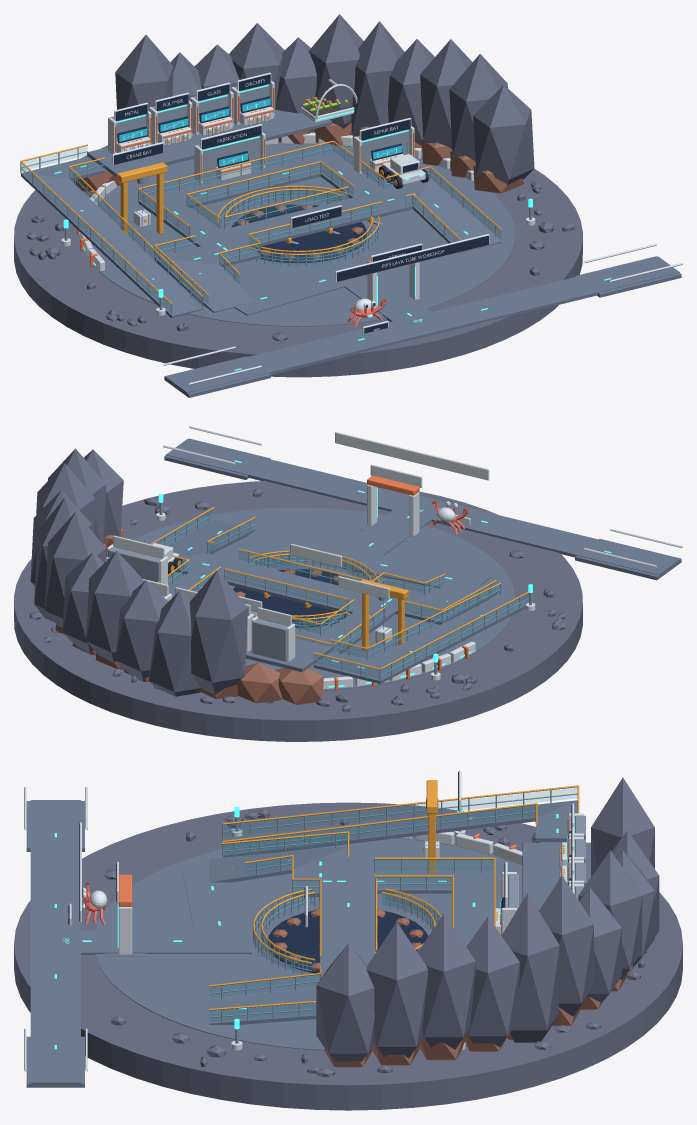
The model's file is pip.glb.
3 views of the same model, one above another, from view 1: azimuth 30°, elevation 25°; view 2: azimuth 150°, elevation 25°; view 3: azimuth 270°, elevation 25° (orthographic). The views are drawn at different scales.
Parts seen in each view (by area): view 1: BATCH_pip floor.003, BATCH_pip rock.003, BATCH_pip white.003, BATCH_pip glass.003, BATCH_pip steel.003, BATCH_pip navy.003, BATCH_pip orange.003, BATCH_pip rust.003, BATCH_pip cyan.003, BATCH_pip screen.003, BATCH_pip accent.003; view 2: BATCH_pip rock.003, BATCH_pip floor.003, BATCH_pip white.003, BATCH_pip glass.003, BATCH_pip steel.003, BATCH_pip orange.003, BATCH_pip rust.003, BATCH_pip navy.003, BATCH_pip accent.003, BATCH_pip cyan.003; view 3: BATCH_pip rock.003, BATCH_pip floor.003, BATCH_pip glass.003, BATCH_pip steel.003, BATCH_pip orange.003, BATCH_pip white.003, BATCH_pip rust.003, BATCH_pip navy.003, BATCH_pip accent.003, BATCH_pip cyan.003.
Part boxes in pixels (left/top/right/bottom): BATCH_pip floor.003: left=21, top=110, right=681, bottom=397; BATCH_pip rock.003: left=14, top=14, right=582, bottom=377; BATCH_pip white.003: left=61, top=72, right=682, bottom=384; BATCH_pip glass.003: left=21, top=143, right=501, bottom=312; BATCH_pip steel.003: left=20, top=84, right=531, bottom=316; BATCH_pip navy.003: left=114, top=74, right=488, bottom=333; BATCH_pip orange.003: left=20, top=108, right=501, bottom=304; BATCH_pip rust.003: left=73, top=123, right=524, bottom=260; BATCH_pip cyan.003: left=54, top=84, right=611, bottom=370; BATCH_pip screen.003: left=119, top=98, right=402, bottom=166; BATCH_pip accent.003: left=76, top=87, right=414, bottom=266; BATCH_pip rock.003: left=14, top=448, right=582, bottom=741; BATCH_pip floor.003: left=105, top=438, right=681, bottom=690; BATCH_pip white.003: left=105, top=426, right=682, bottom=689; BATCH_pip glass.003: left=156, top=509, right=528, bottom=678; BATCH_pip steel.003: left=108, top=503, right=531, bottom=681; BATCH_pip orange.003: left=150, top=507, right=528, bottom=669; BATCH_pip rust.003: left=55, top=528, right=344, bottom=704; BATCH_pip navy.003: left=233, top=569, right=346, bottom=627; BATCH_pip accent.003: left=334, top=475, right=468, bottom=690; BATCH_pip cyan.003: left=158, top=460, right=611, bottom=687; BATCH_pip rock.003: left=14, top=777, right=682, bottom=1110; BATCH_pip floor.003: left=26, top=800, right=590, bottom=1087; BATCH_pip glass.003: left=209, top=788, right=577, bottom=1021; BATCH_pip steel.003: left=209, top=790, right=585, bottom=1043; BATCH_pip orange.003: left=209, top=780, right=579, bottom=1010; BATCH_pip white.003: left=24, top=770, right=583, bottom=1071; BATCH_pip rust.003: left=273, top=909, right=633, bottom=1067; BATCH_pip navy.003: left=68, top=772, right=571, bottom=973; BATCH_pip accent.003: left=118, top=818, right=568, bottom=935; BATCH_pip cyan.003: left=54, top=806, right=574, bottom=1049.
Size of the model in its own units: 48 by 14.14 by 48.
